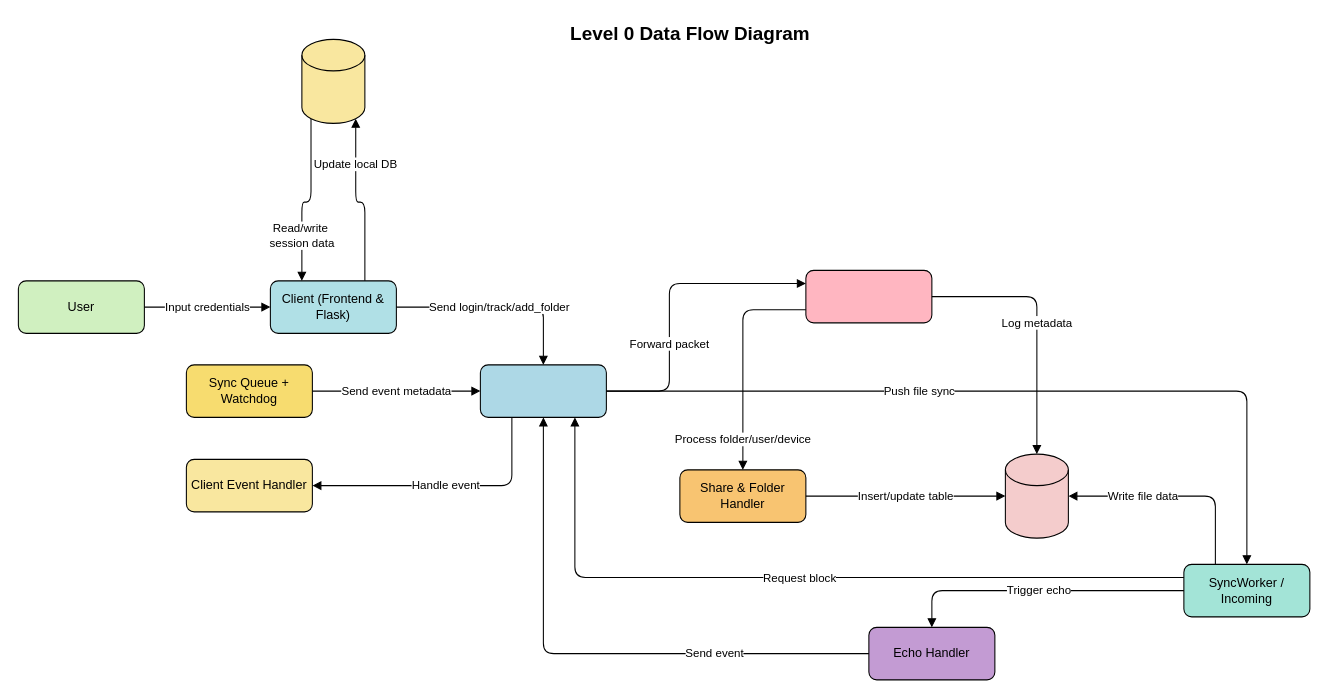
Some shapes in this 1328 by 698 pixel diagram are drawn without their labels. The shapes that lost their labels are listed below. From the top down, each one's box as (x1, y1, x2, y2) in pixels, then its label:
(301, 38, 365, 123): Client DB (SQLAlchemy)
(805, 269, 932, 323): Server (Backend)
(479, 364, 606, 417): TCP Socket 7000/8000/9000
(1004, 453, 1068, 538): Server DB (SQLAlchemy)
